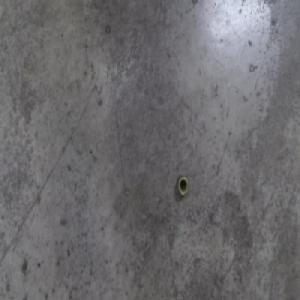Nut: (177, 174, 189, 198)
